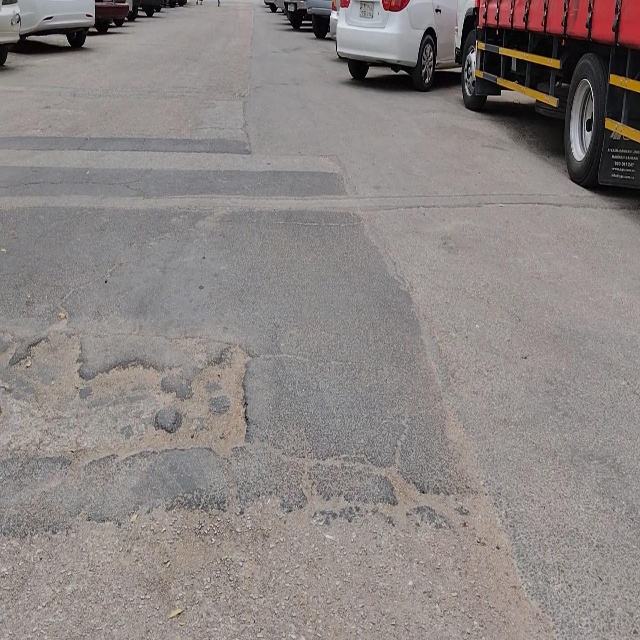pothole: (70, 351, 178, 466), (159, 338, 258, 462)
